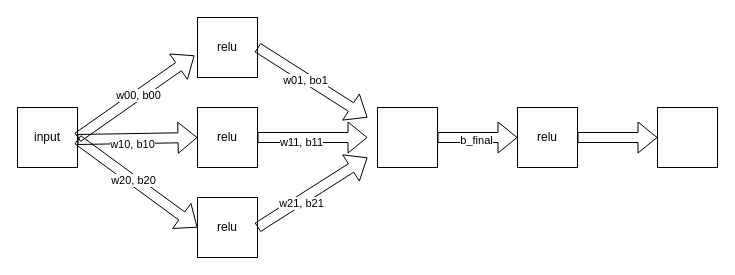
Some shapes in this 735 by 275 pixel diagram are drawn without their labels. The box of each missing label's shape, as (x1, y1, x2, y2) in pixels:
output: (656, 106, 718, 168)
sum: (376, 106, 438, 168)
